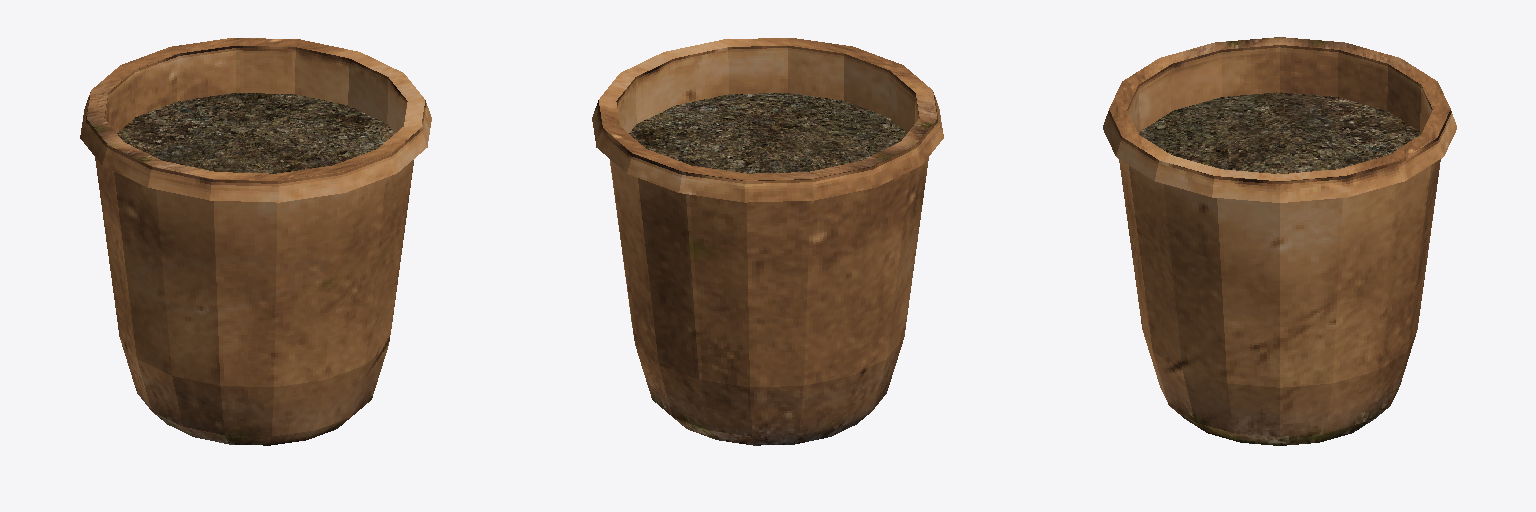
3 views of the same model, side by side, from view 1: azimuth 30°, elevation 25°; view 2: azimuth 150°, elevation 25°; view 3: azimuth 270°, elevation 25° (orthographic).
Visible parts, largest first — view 1: Cylinder01, potsoil1; view 2: Cylinder01, potsoil1; view 3: Cylinder01, potsoil1.
Part boxes in pixels (x1,y1,x2,y2): Cylinder01: (80, 38, 431, 445); potsoil1: (117, 93, 394, 173); Cylinder01: (592, 38, 943, 445); potsoil1: (629, 93, 906, 173); Cylinder01: (1103, 37, 1456, 445); potsoil1: (1139, 92, 1420, 173).
Size of the model in its own units: 0.4398 by 0.4012 by 0.4398.
Materials: 2 (2 with a texture image).